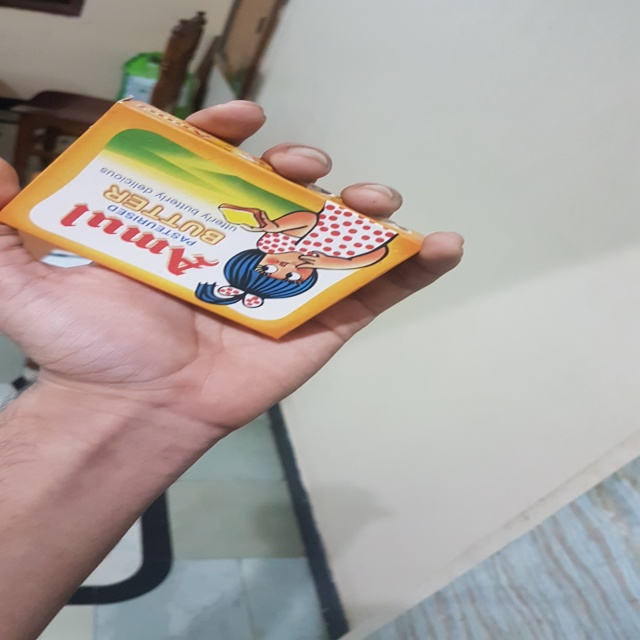butter: (5, 96, 432, 363)
